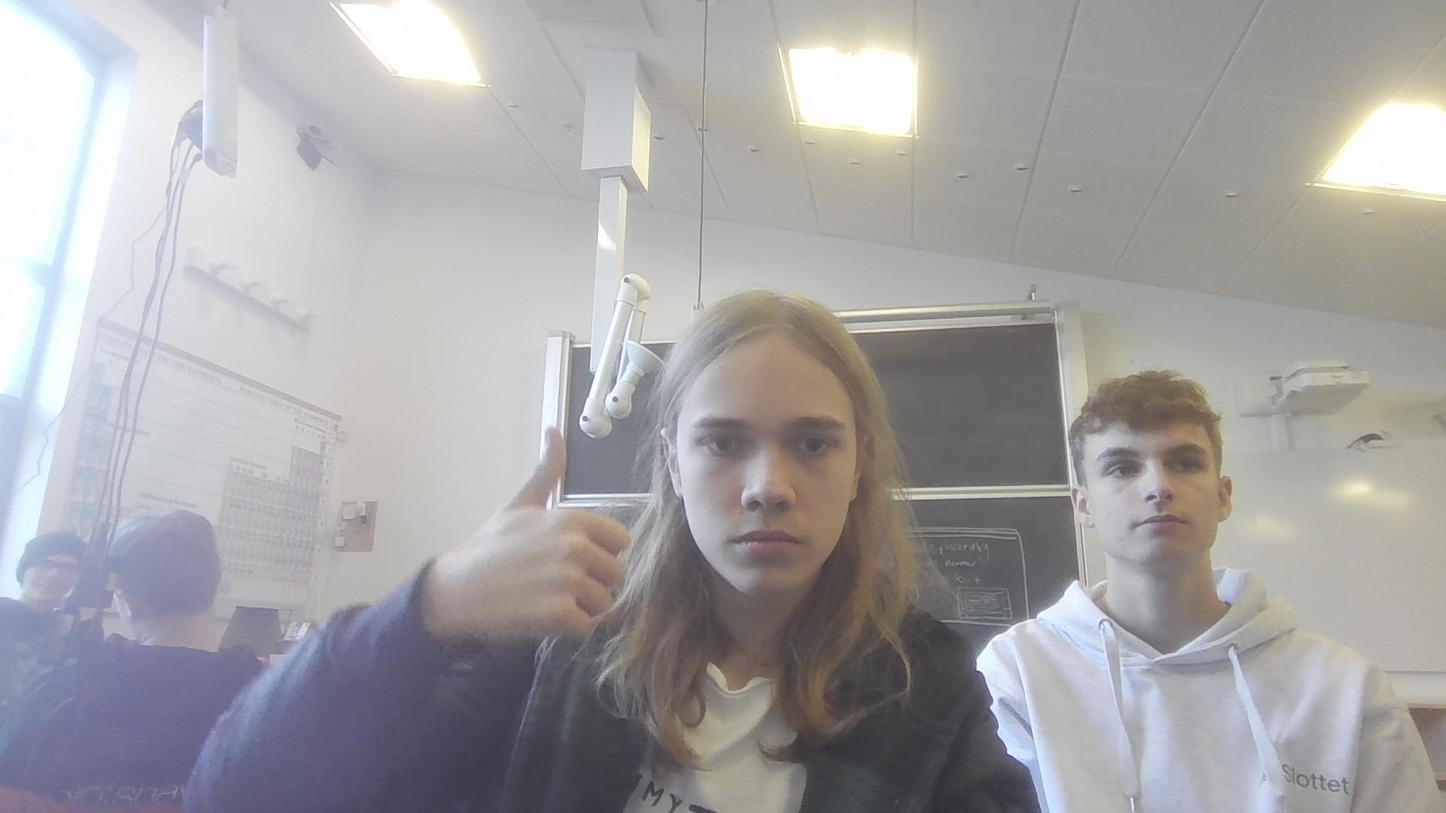thumbs up: (426, 418, 636, 648)
